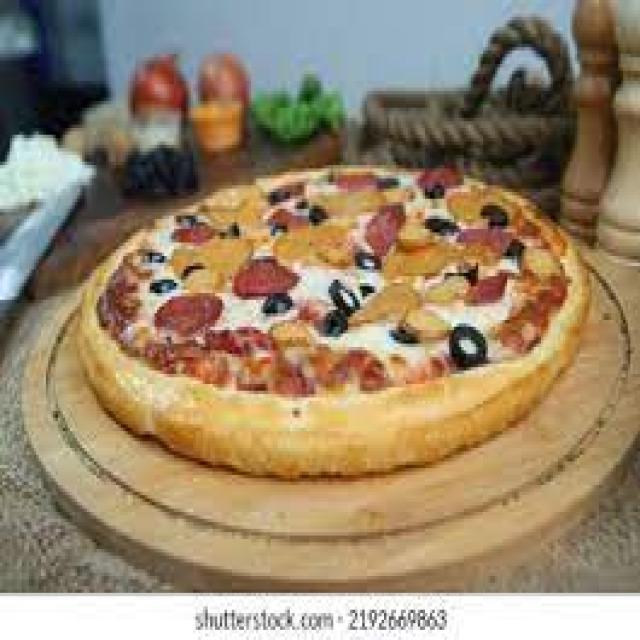피자: (43, 153, 609, 479)
